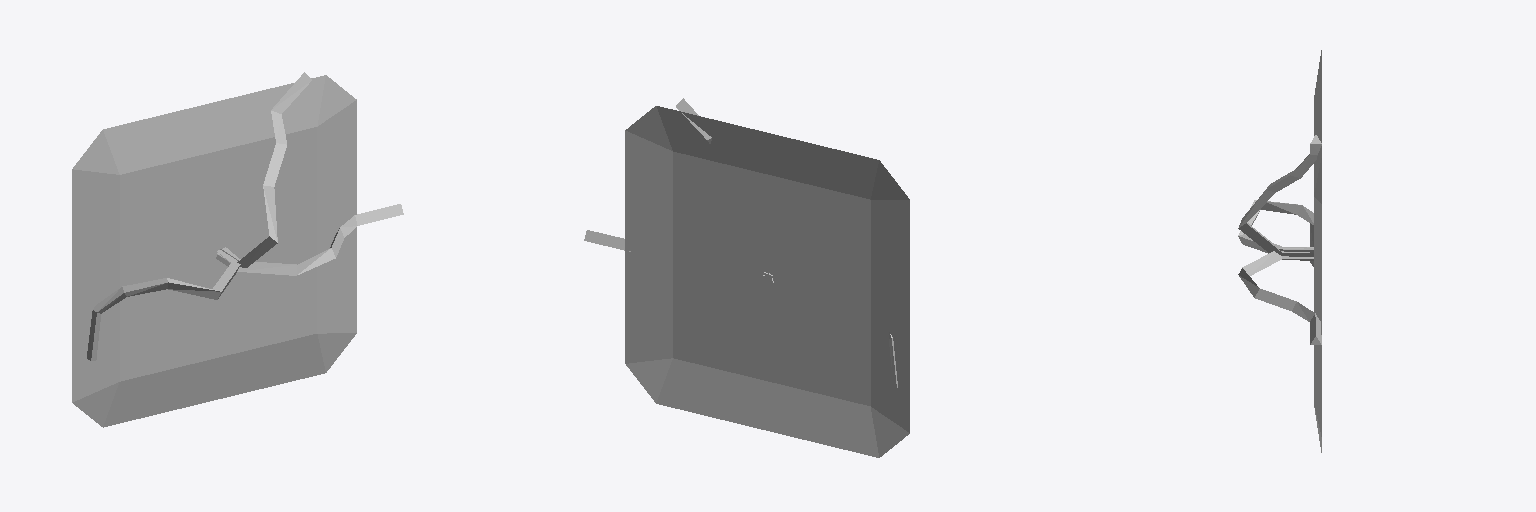
Rendered from upgradeSlotBrokenSimple.obj.
3 renders of one model, left to right at view 1: azimuth 30°, elevation 25°; view 2: azimuth 150°, elevation 25°; view 3: azimuth 270°, elevation 25°, orthographic.
Parts seen in each view (by area): view 1: Object.1; view 2: Object.1; view 3: Object.1.
Part boxes in pixels (x1,y1,x2,y2): Object.1: (72, 72, 403, 427); Object.1: (584, 98, 909, 457); Object.1: (1238, 50, 1321, 452).
Size of the model in its own units: 47.71 by 43.23 by 10.58.